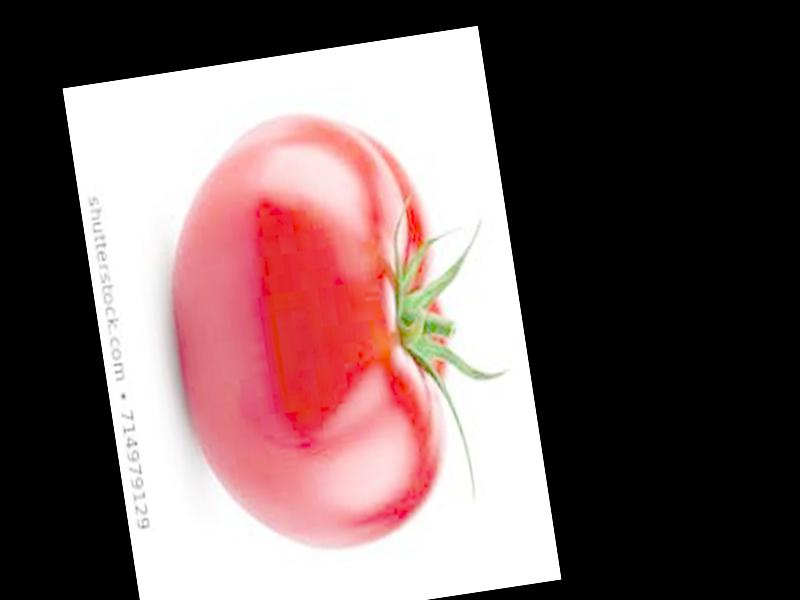Tomato: (148, 96, 472, 567)
